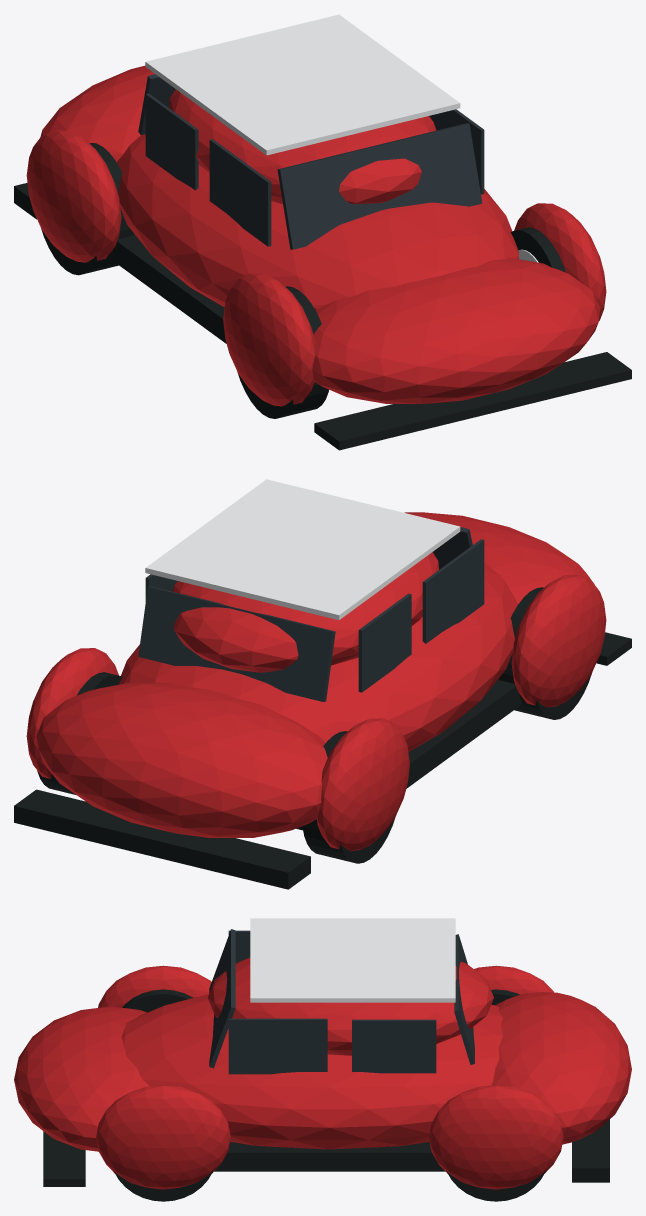
The model's file is michael-v64-clean.glb.
3 views of the same model, one above another, from view 1: azimuth 30°, elevation 25°; view 2: azimuth 150°, elevation 25°; view 3: azimuth 270°, elevation 25° (orthographic). The views are drawn at different scales.
Visible parts, largest first — view 1: nose, body_main, roof_reference, windshield, flare_-1_-1.58, flare_-1_1.58, roof_shell, front_splitter, rear_haunch, side_glass_front_-1, flare_1_1.58, rocker (+6 smaller); view 2: rear_haunch, roof_reference, body_main, roof_shell, rear_lower, flare_-1_1.58, flare_-1_-1.58, rear_glass, nose, side_glass_front_-1, rocker, flare_1_-1.58 (+6 smaller); view 3: body_main, roof_reference, rear_haunch, nose, flare_1_-1.58, flare_1_1.58, roof_shell, side_glass_front_1, rocker, side_glass_rear_1, flare_-1_1.58, front_splitter (+8 smaller).
Boxes of the visible parts, box(x1,y1,x2,y2) form: nose: box(312, 257, 599, 403); body_main: box(116, 134, 518, 309); roof_reference: box(145, 14, 460, 155); windshield: box(277, 123, 482, 249); flare_-1_-1.58: box(26, 130, 121, 262); flare_-1_1.58: box(223, 273, 315, 406); roof_shell: box(169, 89, 436, 204); front_splitter: box(314, 352, 631, 450); rear_haunch: box(40, 65, 154, 162); side_glass_front_-1: box(209, 139, 271, 246); flare_1_1.58: box(514, 203, 606, 321); rocker: box(111, 234, 226, 343); rear_haunch: box(36, 683, 327, 837); roof_reference: box(145, 479, 460, 619); body_main: box(119, 562, 517, 751); roof_shell: box(172, 552, 438, 672); rear_lower: box(14, 789, 310, 889); flare_-1_1.58: box(511, 574, 606, 707); flare_-1_-1.58: box(317, 718, 409, 851); rear_glass: box(138, 586, 335, 701); nose: box(404, 512, 594, 604); side_glass_front_-1: box(422, 539, 484, 643); rocker: box(296, 679, 522, 830); flare_1_-1.58: box(26, 648, 118, 778); body_main: box(121, 994, 502, 1149); roof_reference: box(250, 918, 455, 1002); rear_haunch: box(492, 992, 631, 1144); nose: box(14, 1006, 149, 1151); flare_1_-1.58: box(429, 1085, 563, 1189); flare_1_1.58: box(96, 1085, 230, 1189); roof_shell: box(207, 957, 493, 1055); side_glass_front_1: box(228, 1018, 327, 1074); rocker: box(214, 1141, 445, 1171); side_glass_rear_1: box(352, 1019, 436, 1073); flare_-1_1.58: box(98, 965, 211, 1007); front_splitter: box(43, 1131, 85, 1186).
Size of the model in its own units: 3.16 by 1.89 by 5.87.
